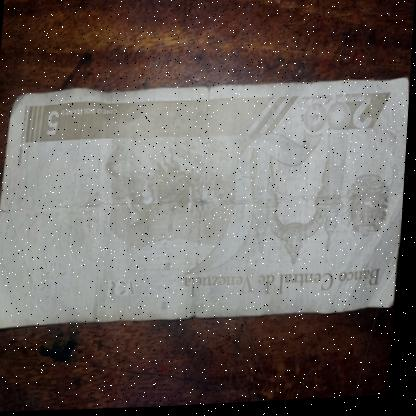five-back-vef: (0, 72, 412, 335)
